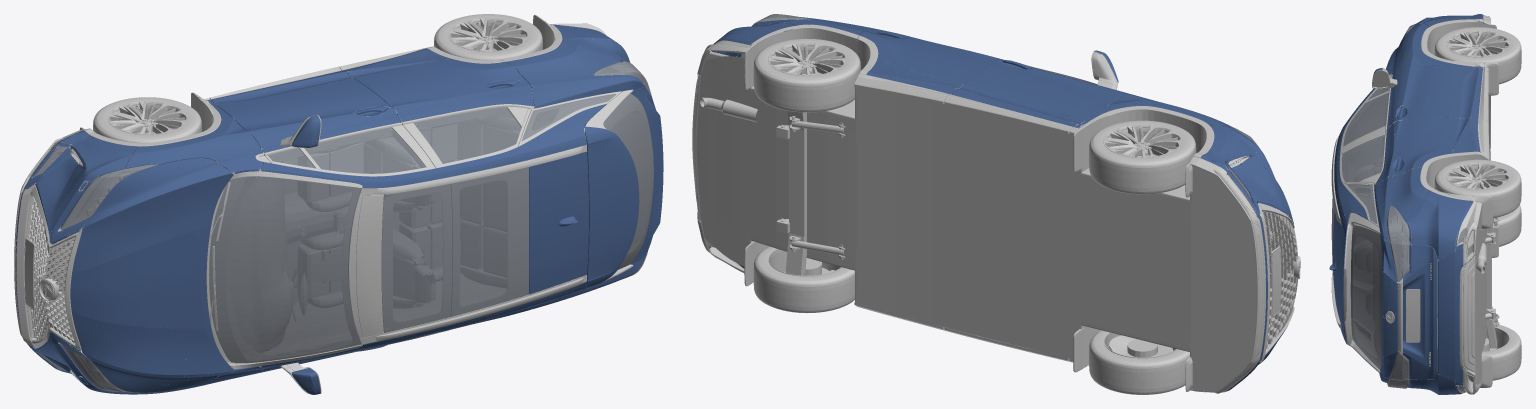
File: lexus_rx_deep_blue_mica.glb
The picture shows the model from 3 angles, left to right: view 1: azimuth 30°, elevation 25°; view 2: azimuth 150°, elevation 25°; view 3: azimuth 270°, elevation 25°; orthographic projection. The views are drawn at different scales.
Parts seen in each view (by area): view 1: optimized_body, optimized_interior, optimized_d_glass, optimized_vd_glass, optimized_black, optimized_black_matt, optimized_black_shiny, optimized_silver, optimized_chrome, optimized_tire_mat4, optimized_glass, optimized_r_glass; view 2: optimized_black, optimized_black_matt, optimized_body, optimized_tire_mat4, optimized_silver, optimized_chrome, optimized_plate; view 3: optimized_body, optimized_black_matt, optimized_vd_glass, optimized_tire_mat4, optimized_silver, optimized_black, optimized_interior, optimized_black_shiny, optimized_chrome, optimized_d_glass, optimized_r_glass, optimized_glass (+2 smaller).
Boxes of the visible parts, box(x1,y1,x2,y2) form: optimized_body: box(15, 24, 663, 394); optimized_interior: box(214, 105, 650, 360); optimized_d_glass: box(209, 127, 425, 363); optimized_vd_glass: box(381, 94, 653, 332); optimized_black: box(24, 38, 652, 376); optimized_black_matt: box(15, 15, 608, 393); optimized_black_shiny: box(62, 62, 650, 391); optimized_silver: box(14, 17, 583, 340); optimized_chrome: box(16, 38, 663, 393); optimized_tire_mat4: box(93, 14, 542, 143); optimized_glass: box(34, 61, 634, 392); optimized_r_glass: box(593, 62, 652, 278); optimized_black: box(696, 29, 1256, 390); optimized_black_matt: box(697, 24, 1300, 392); optimized_body: box(712, 17, 1293, 392); optimized_tire_mat4: box(753, 38, 1196, 394); optimized_silver: box(692, 42, 1265, 393); optimized_chrome: box(697, 46, 1300, 362); optimized_plate: box(1272, 247, 1281, 315); optimized_body: box(1329, 14, 1483, 394); optimized_black_matt: box(1335, 15, 1509, 394); optimized_vd_glass: box(1331, 135, 1384, 369); optimized_tire_mat4: box(1434, 27, 1521, 380); optimized_silver: box(1331, 16, 1509, 372); optimized_black: box(1333, 23, 1489, 384); optimized_interior: box(1340, 88, 1460, 357); optimized_black_shiny: box(1342, 22, 1422, 386); optimized_chrome: box(1339, 46, 1480, 393); optimized_d_glass: box(1343, 87, 1389, 146); optimized_r_glass: box(1387, 205, 1465, 391); optimized_glass: box(1343, 23, 1416, 388).
Size of the model in its own units: 4.87 by 2.15 by 1.69.
